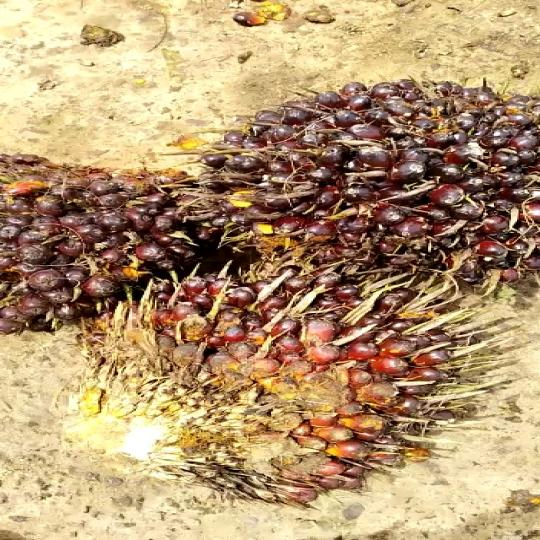kurang masak: (52, 283, 464, 505), (194, 70, 540, 304), (0, 152, 213, 338)
